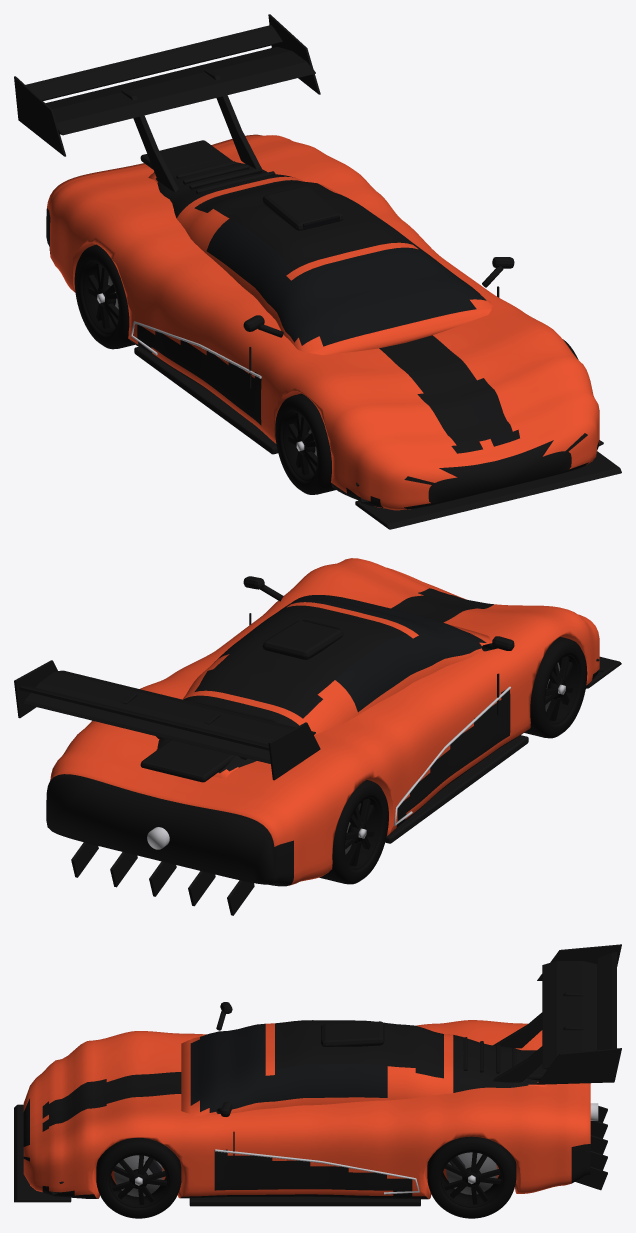
3 views of the same model, one above another, from view 1: azimuth 30°, elevation 25°; view 2: azimuth 150°, elevation 25°; view 3: azimuth 270°, elevation 25° (orthographic). The views are drawn at different scales.
Parts seen in each view (by area): view 1: Body_Shell, Cabin_Canopy, Rear_Wing_Main_Plane, Rear_Wing_Flap, Front_Splitter, Tire_Front_Right, Tire_Rear_Right, Side_Skirt_Right, Roof_Air_Scoop, Wing_End_Plate_Right, Rear_Deck_Spine, Wing_Pylon_Right (+6 smaller); view 2: Body_Shell, Cabin_Canopy, Rear_Wing_Main_Plane, Tire_Front_Right, Tire_Rear_Right, Rear_Deck_Spine, Side_Skirt_Right, Roof_Air_Scoop, Wing_End_Plate_Right, Rear_Wing_Flap, Wheel_Spokes_Rear_Right, Wing_End_Plate_Left (+9 smaller); view 3: Body_Shell, Cabin_Canopy, Rear_Wing_Main_Plane, Tire_Rear_Left, Tire_Front_Left, Wing_End_Plate_Left, Side_Skirt_Left, Rear_Wing_Flap, Front_Splitter, Roof_Air_Scoop, Wheel_Spokes_Rear_Left, Wheel_Spokes_Front_Left (+9 smaller).
Part boxes in pixels (<box>): Body_Shell: <box>46,134,599,510</box>; Cabin_Canopy: <box>148,162,492,355</box>; Rear_Wing_Main_Plane: <box>45,46,315,135</box>; Rear_Wing_Flap: <box>26,25,282,100</box>; Front_Splitter: <box>355,451,621,529</box>; Tire_Front_Right: <box>275,393,335,494</box>; Tire_Rear_Right: <box>74,244,134,349</box>; Side_Skirt_Right: <box>134,347,277,454</box>; Roof_Air_Scoop: <box>262,186,343,230</box>; Wing_End_Plate_Right: <box>14,76,65,156</box>; Rear_Deck_Spine: <box>140,140,232,178</box>; Wing_Pylon_Right: <box>121,89,178,192</box>; Body_Shell: <box>46,558,599,886</box>; Cabin_Canopy: <box>156,595,491,778</box>; Rear_Wing_Main_Plane: <box>23,670,315,763</box>; Tire_Front_Right: <box>524,637,587,738</box>; Tire_Rear_Right: <box>319,780,388,884</box>; Rear_Deck_Spine: <box>140,740,234,782</box>; Side_Skirt_Right: <box>385,735,528,843</box>; Roof_Air_Scoop: <box>262,620,343,659</box>; Wing_End_Plate_Right: <box>268,722,320,780</box>; Rear_Wing_Flap: <box>19,686,269,750</box>; Wheel_Spokes_Rear_Right: <box>345,798,374,866</box>; Wing_End_Plate_Left: <box>14,660,57,718</box>; Body_Shell: <box>23,1020,590,1199</box>; Cabin_Canopy: <box>181,1020,546,1115</box>; Rear_Wing_Main_Plane: <box>542,961,597,1069</box>; Tire_Rear_Left: <box>427,1136,516,1218</box>; Tire_Front_Left: <box>96,1138,181,1218</box>; Wing_End_Plate_Left: <box>537,1048,621,1084</box>; Side_Skirt_Left: <box>189,1196,420,1206</box>; Rear_Wing_Flap: <box>597,952,616,1050</box>; Front_Splitter: <box>14,1104,71,1202</box>; Roof_Air_Scoop: <box>321,1021,384,1046</box>; Wheel_Spokes_Rear_Left: <box>444,1152,501,1204</box>; Wheel_Spokes_Front_Left: <box>112,1155,166,1204</box>.
Size of the model in its own units: 0.4266 by 0.3088 by 1.
